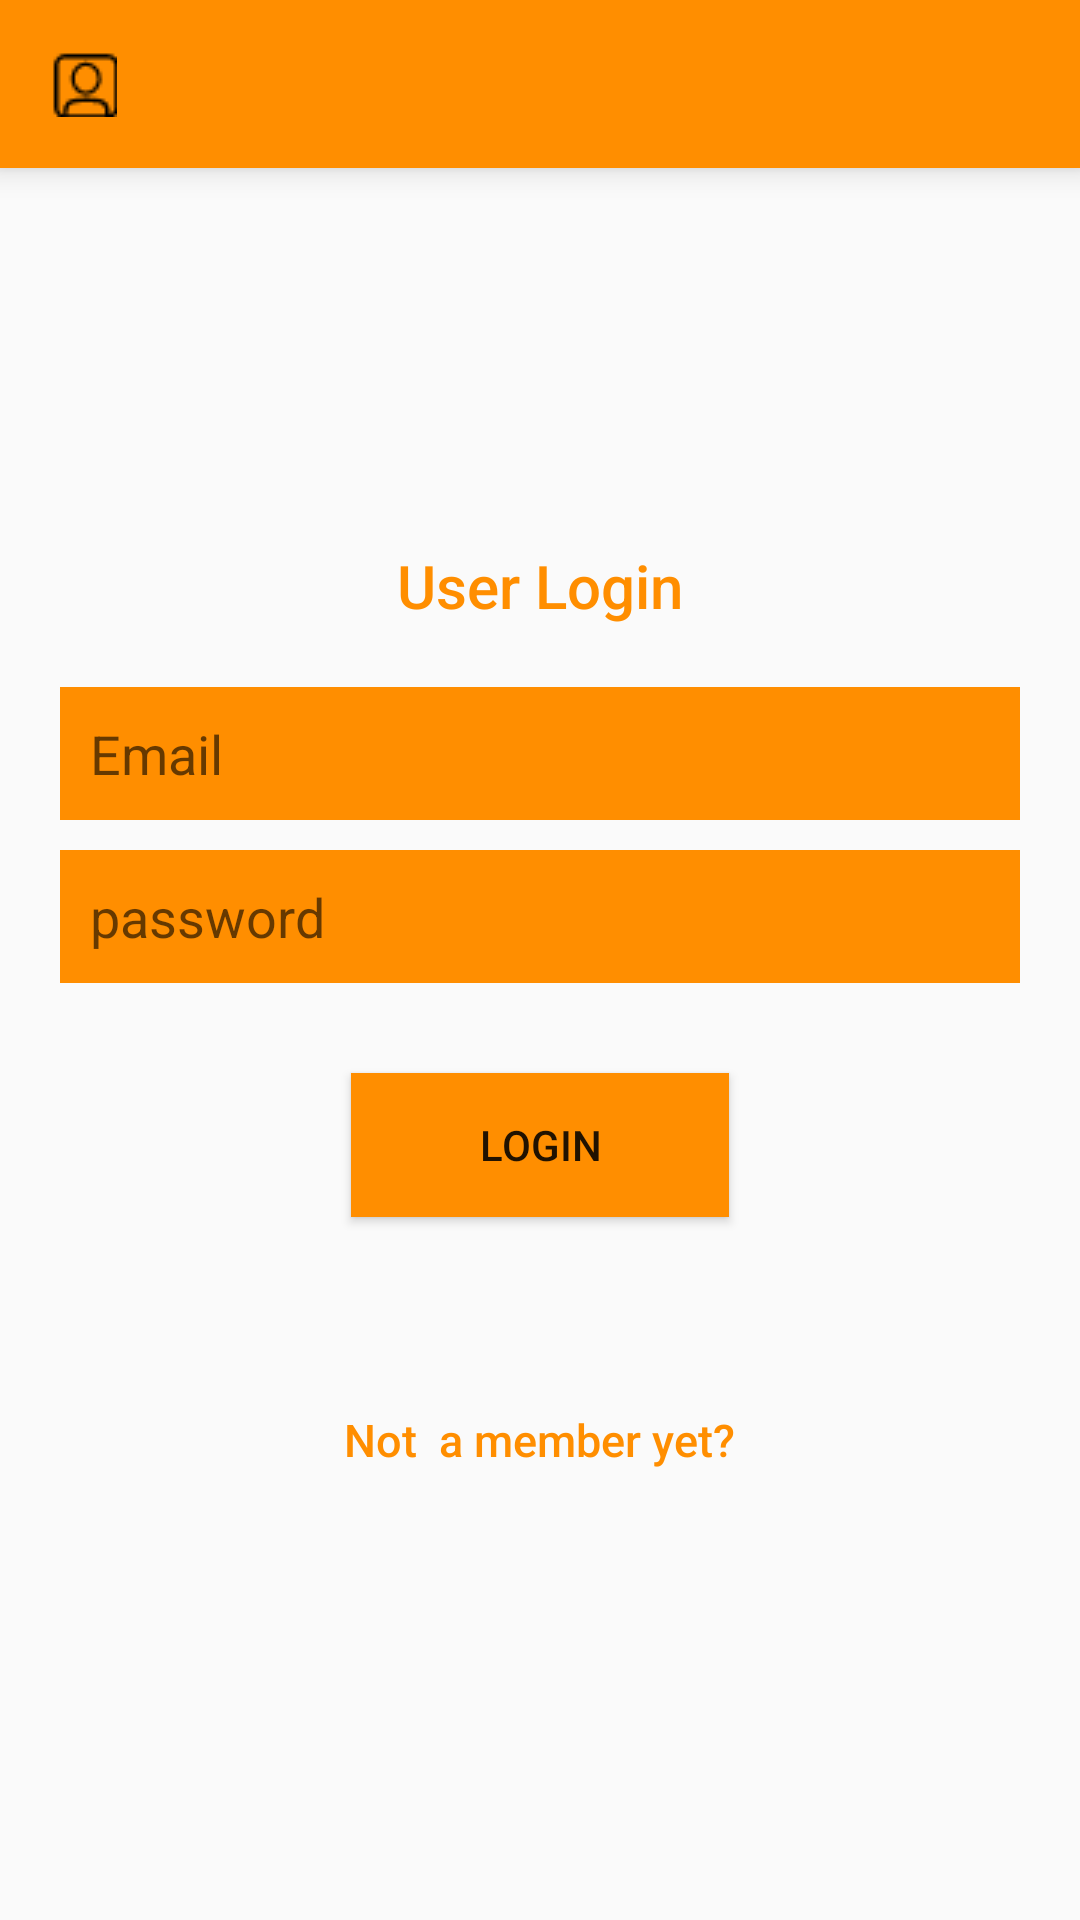

Point at icon controls on the screen. Image size 1080w x 1920h, points as (x=x, y=y).
user: (x=85, y=85)
